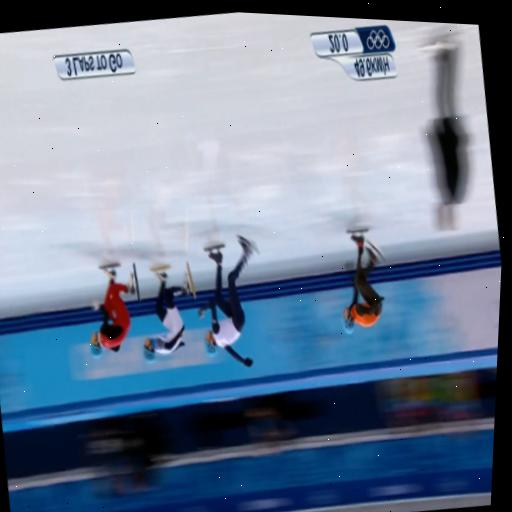Skater: (199, 235, 258, 366), (144, 267, 190, 361), (343, 231, 384, 333), (90, 265, 135, 356)
